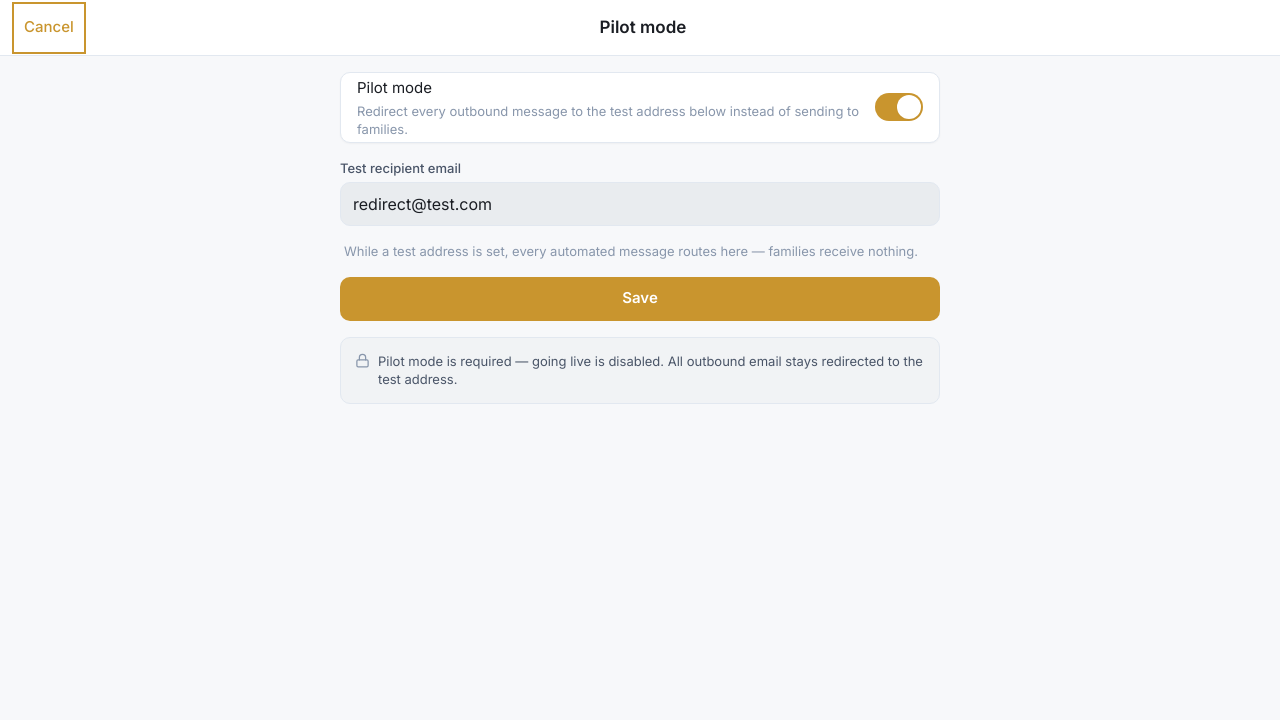
PilotModeForm › normal Save is disabled when the address is cleared (clearing is NOT a normal save)
Clear the field labelled "Test recipient email" at (640, 204), box [340,182,940,226]
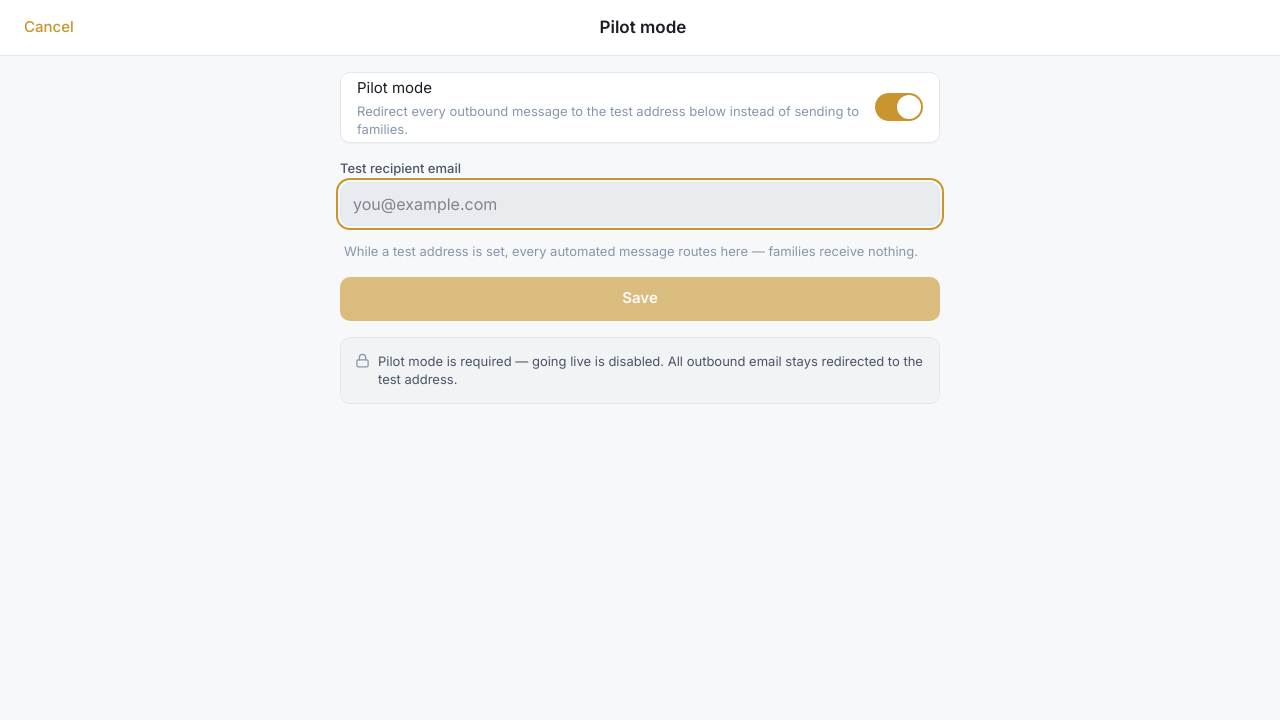
expect the button "Save" is disabled: met, box [340,277,940,321]
